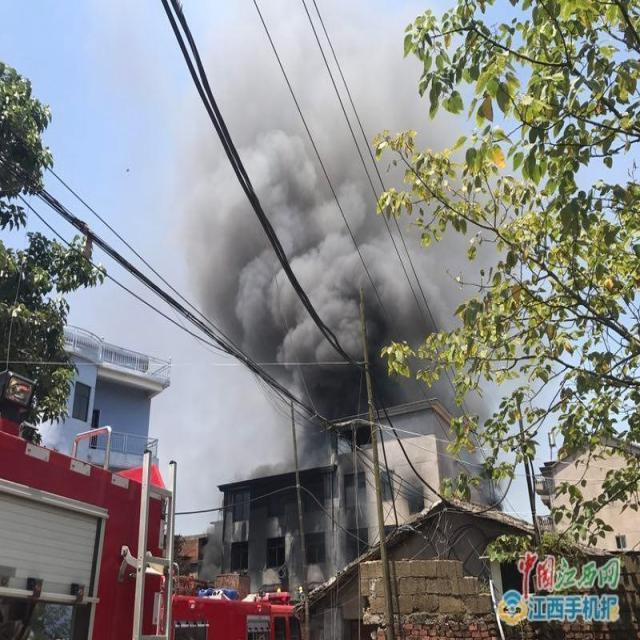Smoke: (168, 1, 523, 482), (196, 520, 224, 584)
